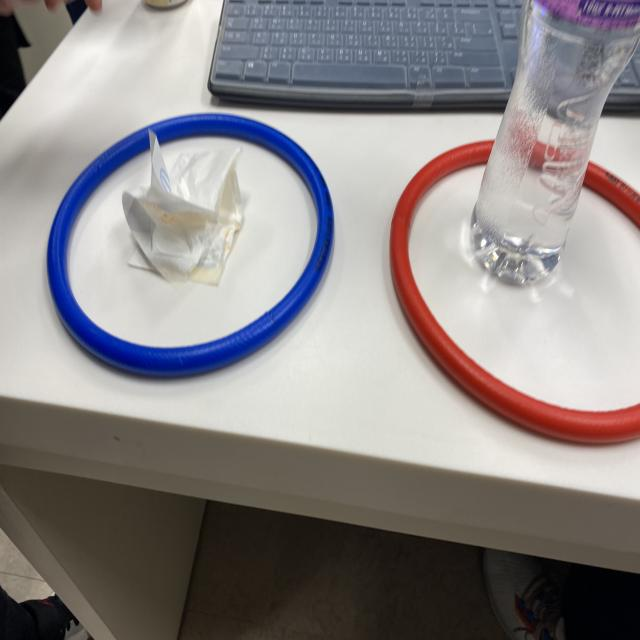daire: (43, 109, 340, 385), (386, 136, 640, 455)
